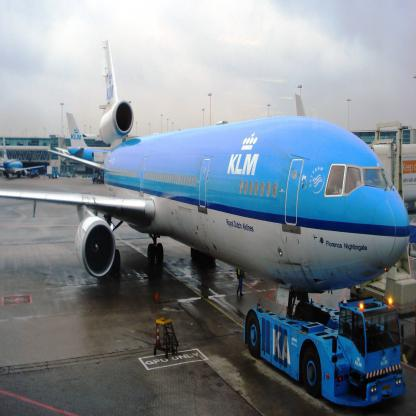CIV_Plane: (4, 39, 412, 398)
